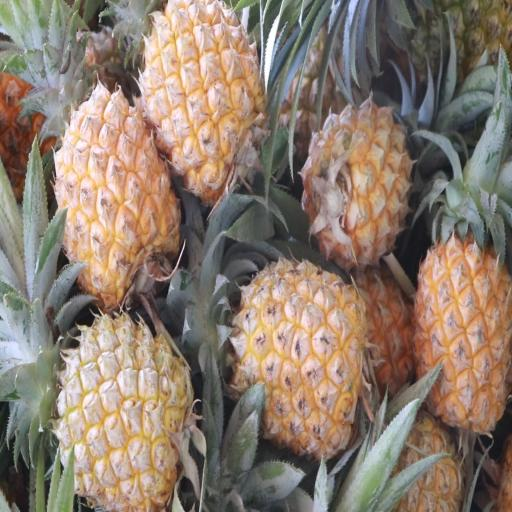Pineapple - v8 v1: (57, 309, 192, 512), (54, 86, 180, 298), (235, 260, 365, 457), (136, 0, 266, 187), (413, 228, 511, 429), (304, 101, 411, 265)
